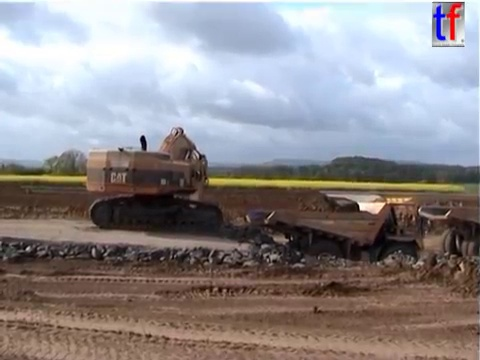excavator: (83, 124, 225, 235)
truck: (242, 195, 428, 285), (415, 203, 480, 266)
